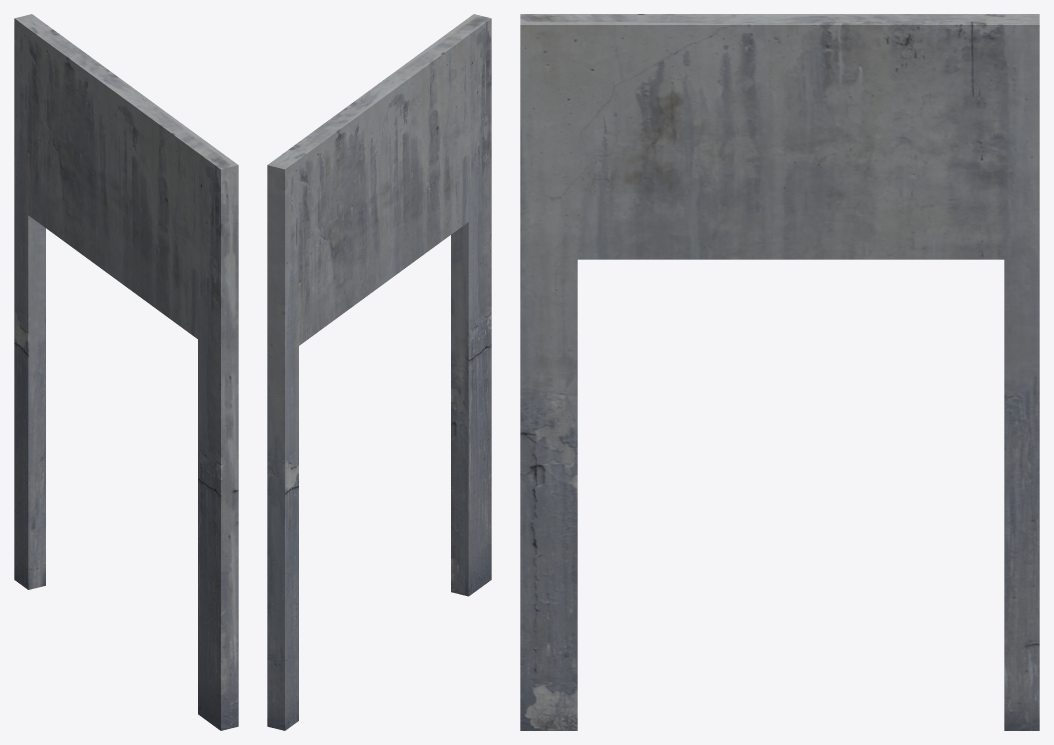
Rendered from SM_Doorway.fbx.
3 views of the same model, side by side, from view 1: azimuth 30°, elevation 25°; view 2: azimuth 150°, elevation 25°; view 3: azimuth 270°, elevation 25° (orthographic). The views are drawn at different scales.
Parts seen in each view (by area): view 1: SM_Doorway; view 2: SM_Doorway; view 3: SM_Doorway.
Boxes of the visible parts, <box> form: SM_Doorway: <box>14,14,238,730</box>; SM_Doorway: <box>267,14,491,730</box>; SM_Doorway: <box>520,14,1039,730</box>.
Size of the model in its own units: 14.92 by 300 by 450.
1 material, 1 textured.
